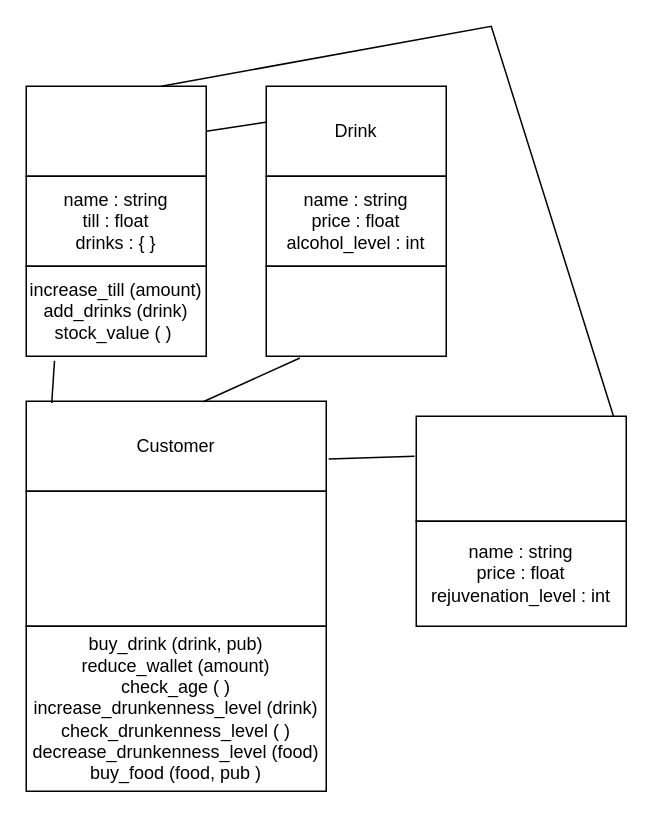
Image size: 653x818. Some labels were removed from this diagram. Each missing label, with the centre of its shape:
"Food" belongs at [520,468].
"name : string wallet : float age : int drunkeness_level : int" belongs at [175,558].
"Pub" belongs at [115,130].
